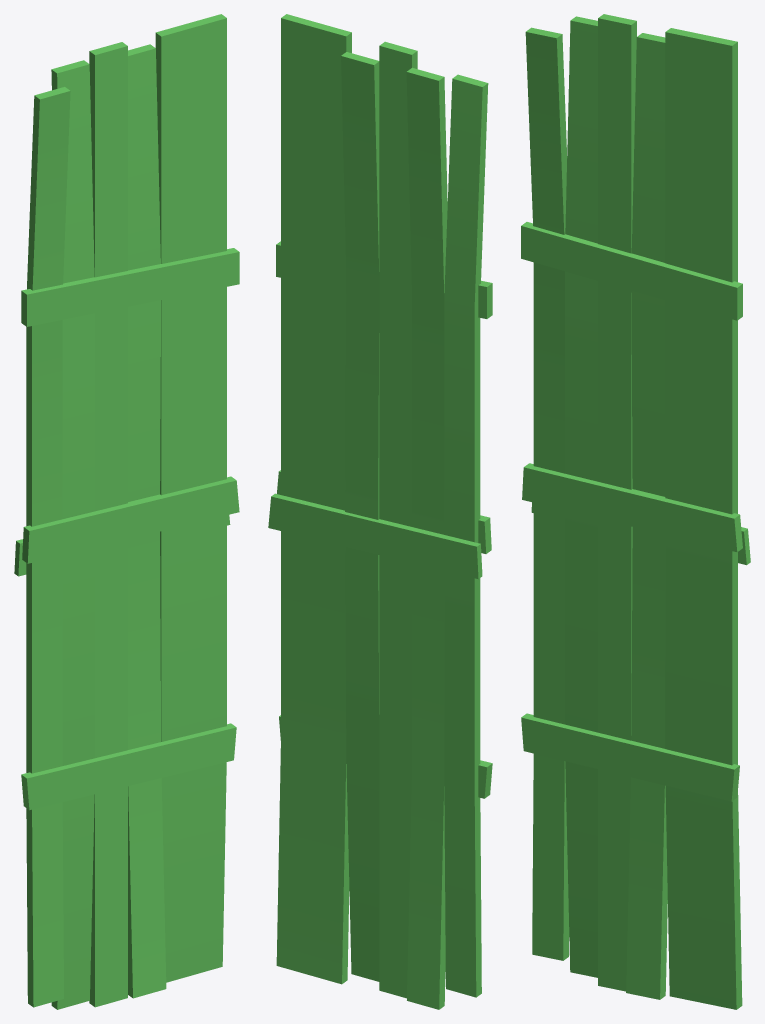
File: Gen_Window_Barred2.fbx
The picture shows the model from 3 angles, left to right: view 1: azimuth 30°, elevation 25°; view 2: azimuth 150°, elevation 25°; view 3: azimuth 330°, elevation 25°; orthographic projection. The views are drawn at different scales.
Parts seen in each view (by area): view 1: Gen_Window_Barred2; view 2: Gen_Window_Barred2; view 3: Gen_Window_Barred2.
Boxes of the visible parts, x1,y1,x2,y2 form: Gen_Window_Barred2: (14, 14, 239, 1009); Gen_Window_Barred2: (268, 14, 492, 1009); Gen_Window_Barred2: (521, 14, 750, 1009).
Bounding box in the file's own units: 163 × 703 × 25.44.
